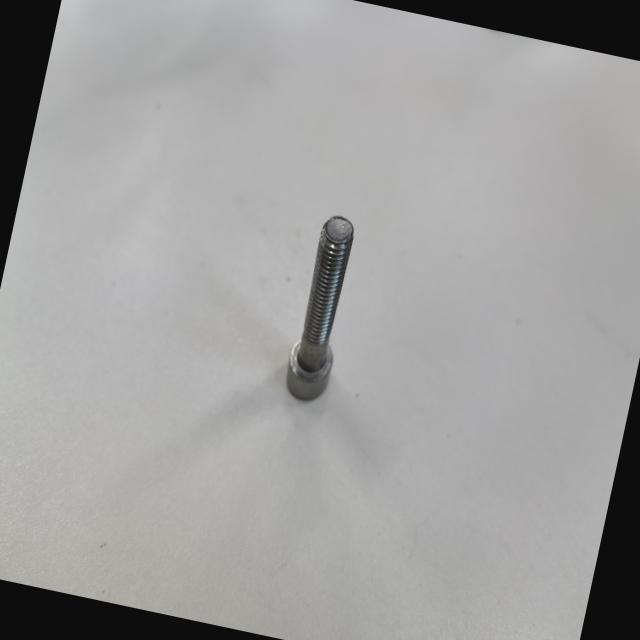screws: (274, 206, 357, 407)
